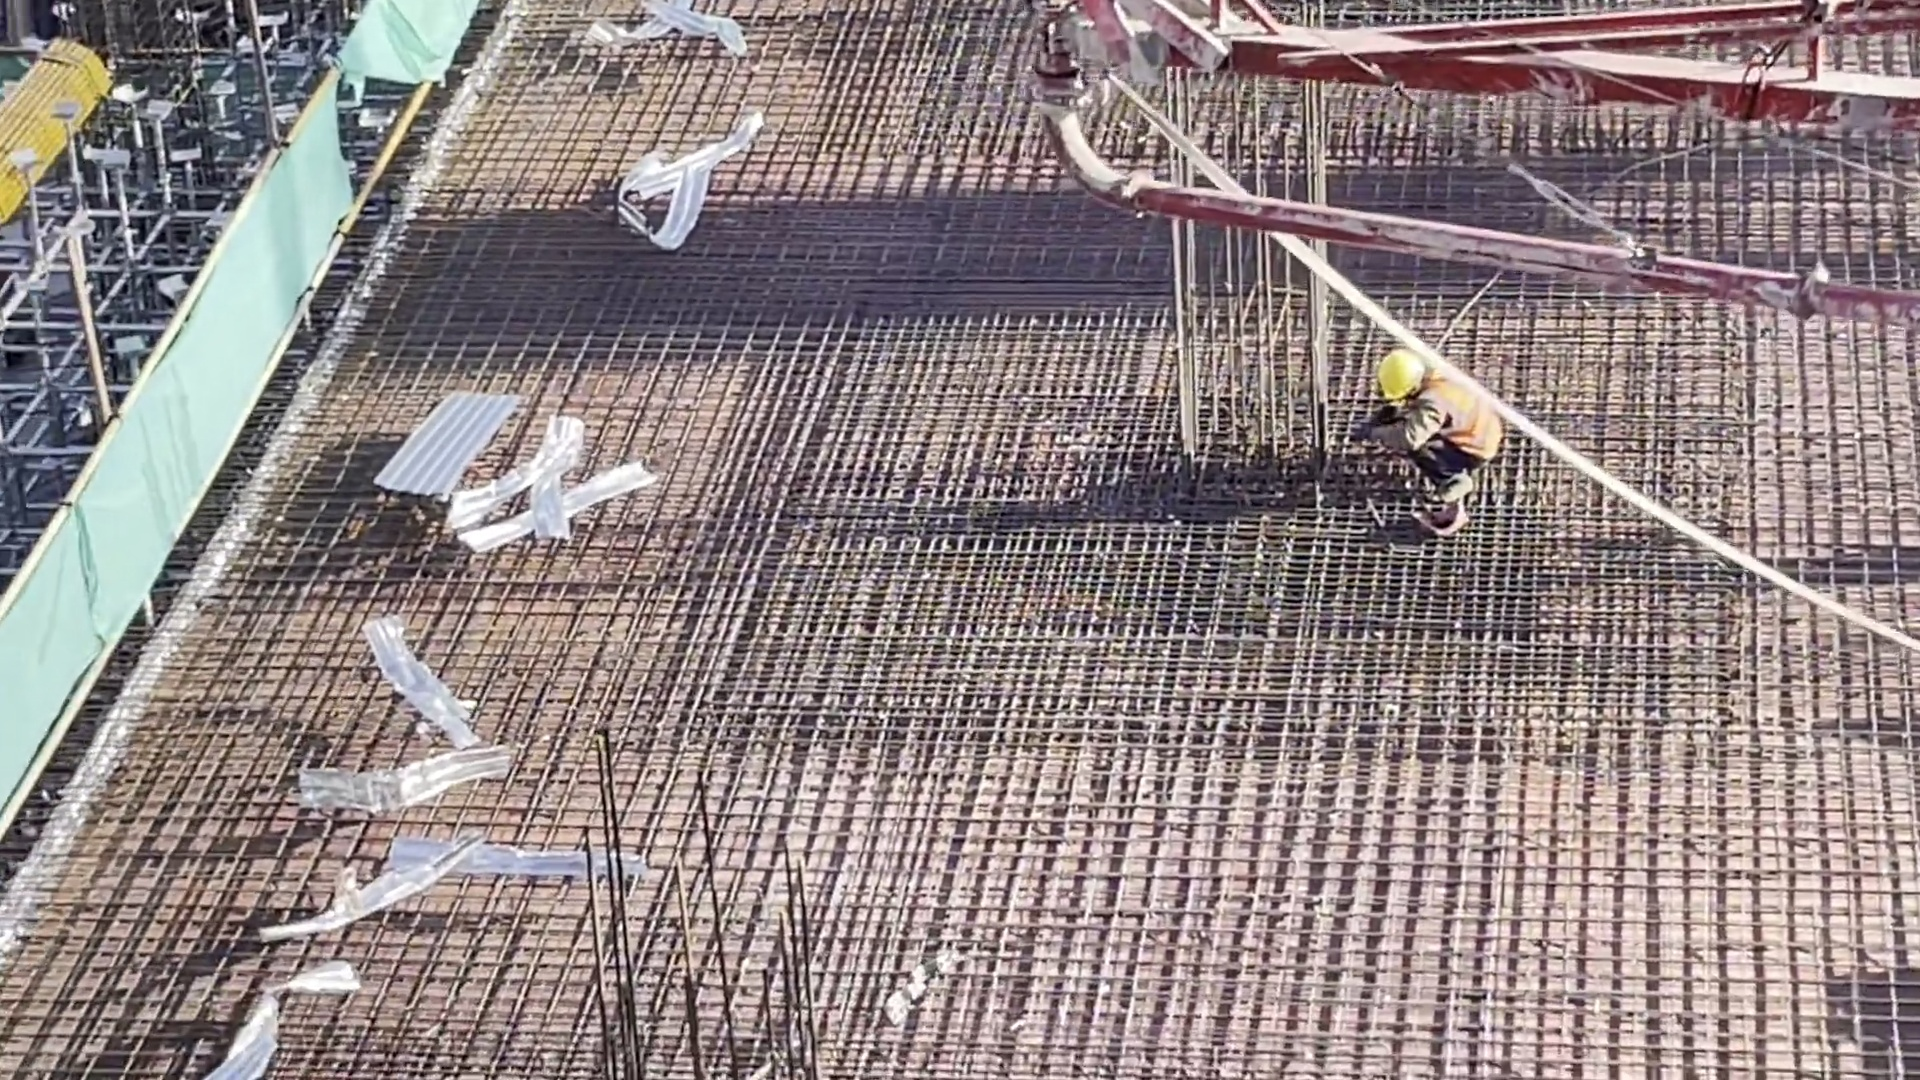helmet: (1378, 352, 1423, 397)
person: (1365, 347, 1508, 544)
vest: (1416, 380, 1494, 472)
